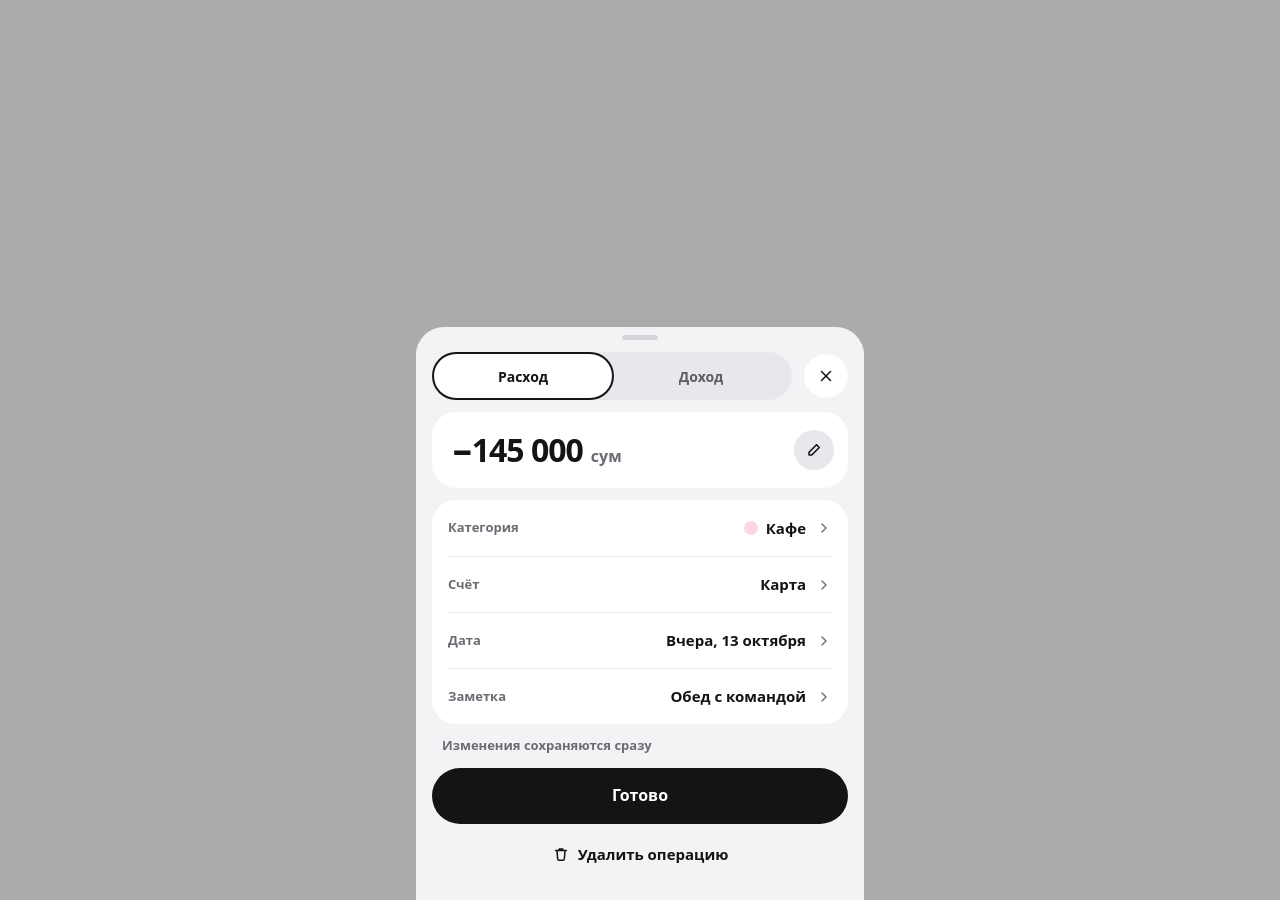
Test case: every change is saved at once › the amount left as it was saves nothing
This screenshot has width=1280, height=900.
Click the button "−145 000 сум": (517, 450) top-left (432, 412), bottom-right (848, 488)
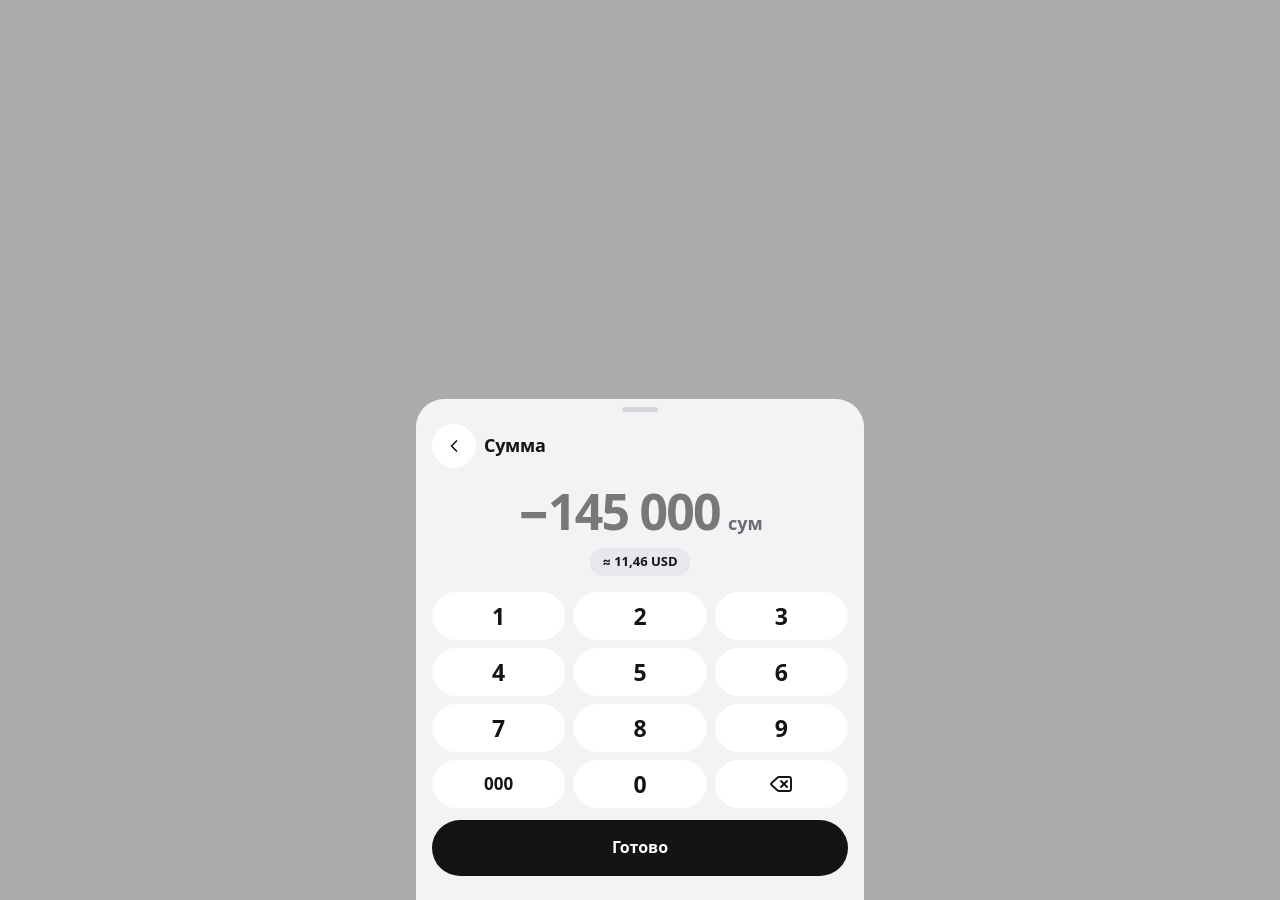
Click the button "Готово": (640, 848) top-left (432, 820), bottom-right (848, 876)
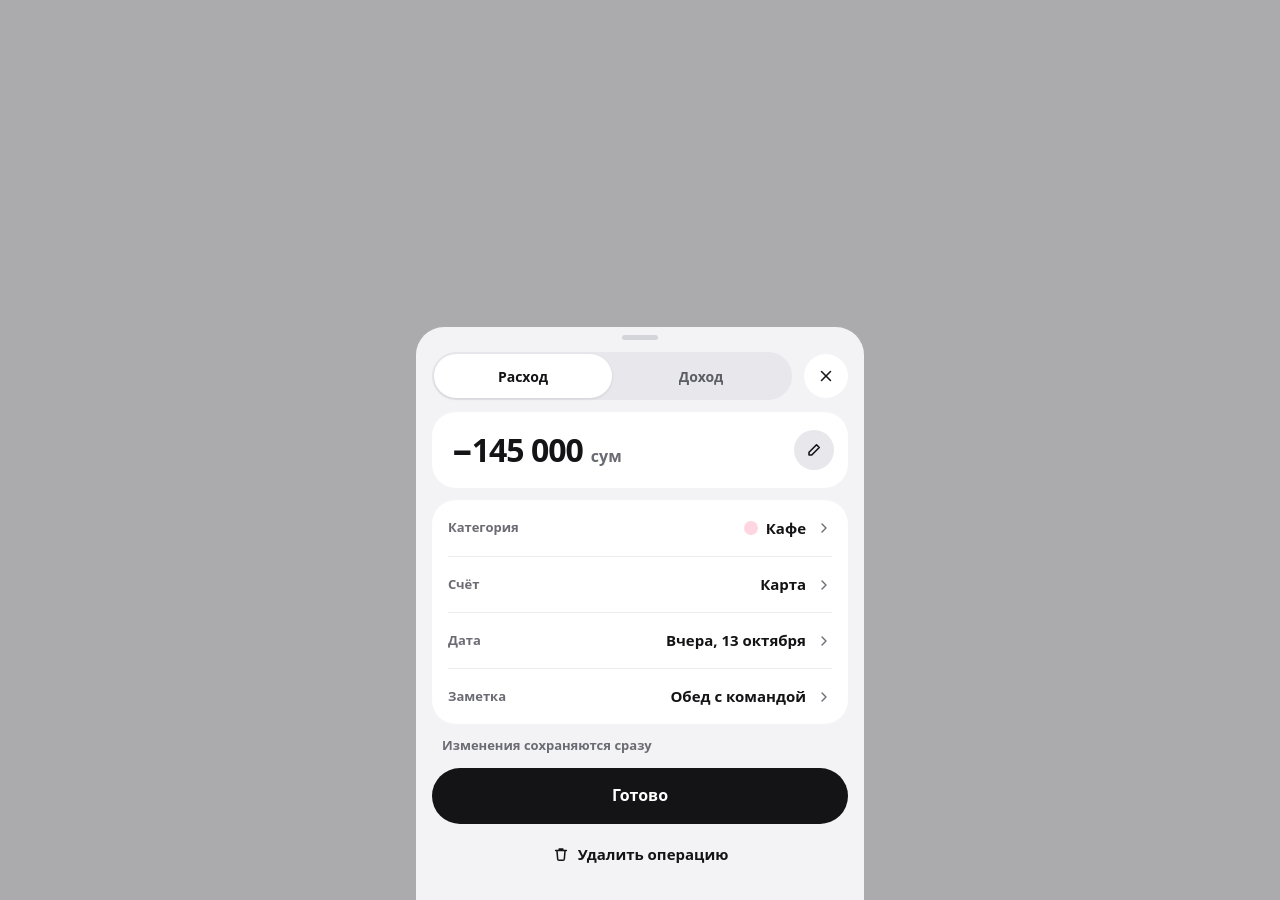
Check: the text "Изменения сохраняются сразу" is shown, box top-left (442, 736), bottom-right (652, 756)
